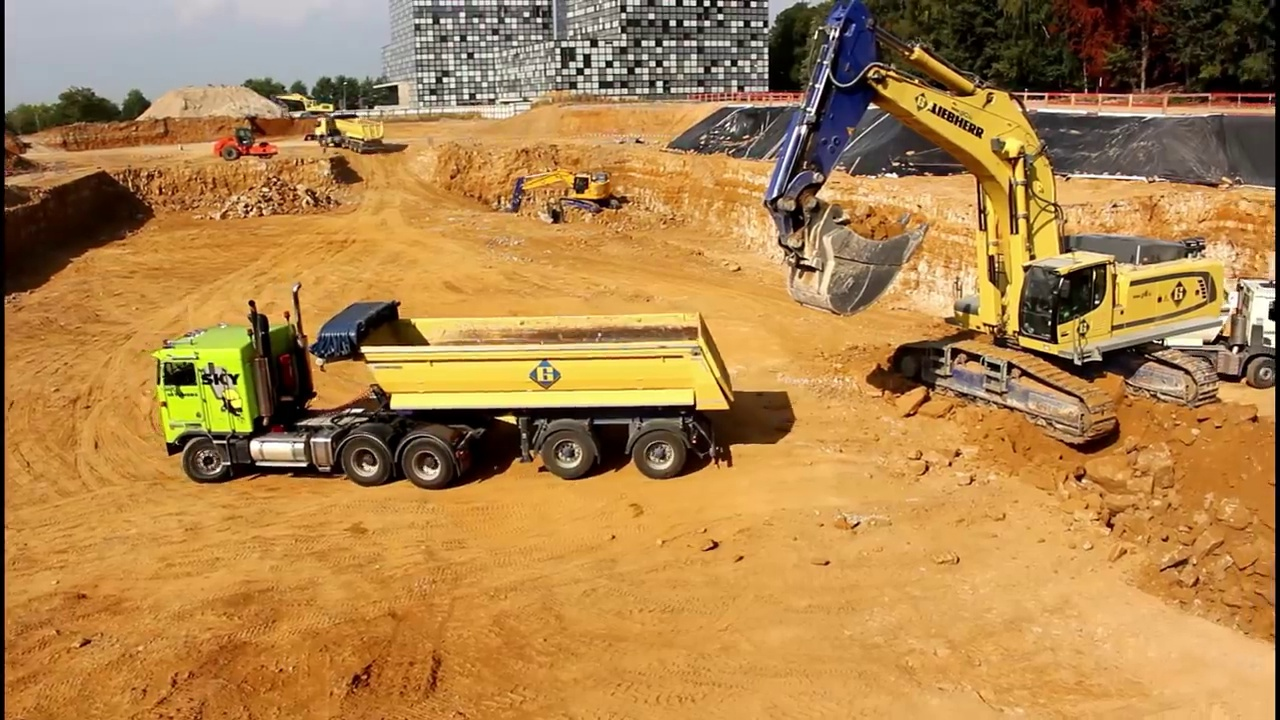excavator: (765, 7, 1222, 445), (507, 165, 619, 217)
truck: (150, 302, 737, 486), (1111, 274, 1277, 383), (313, 111, 386, 154)
